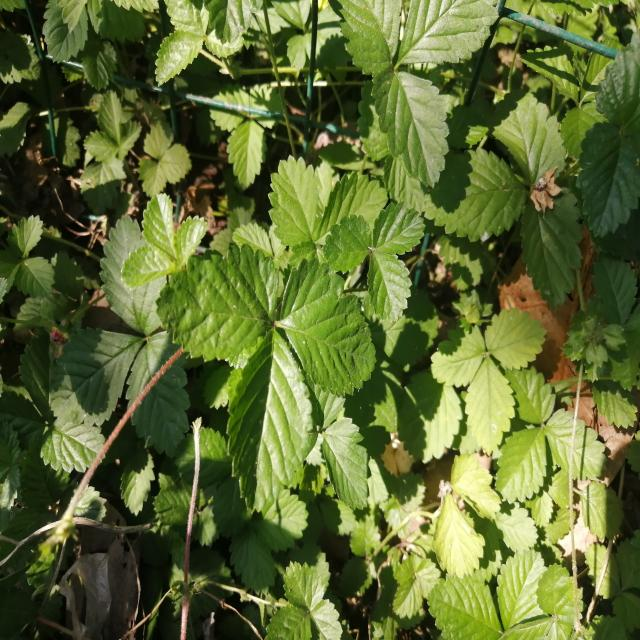Mock_strawberry: (159, 235, 392, 517)
